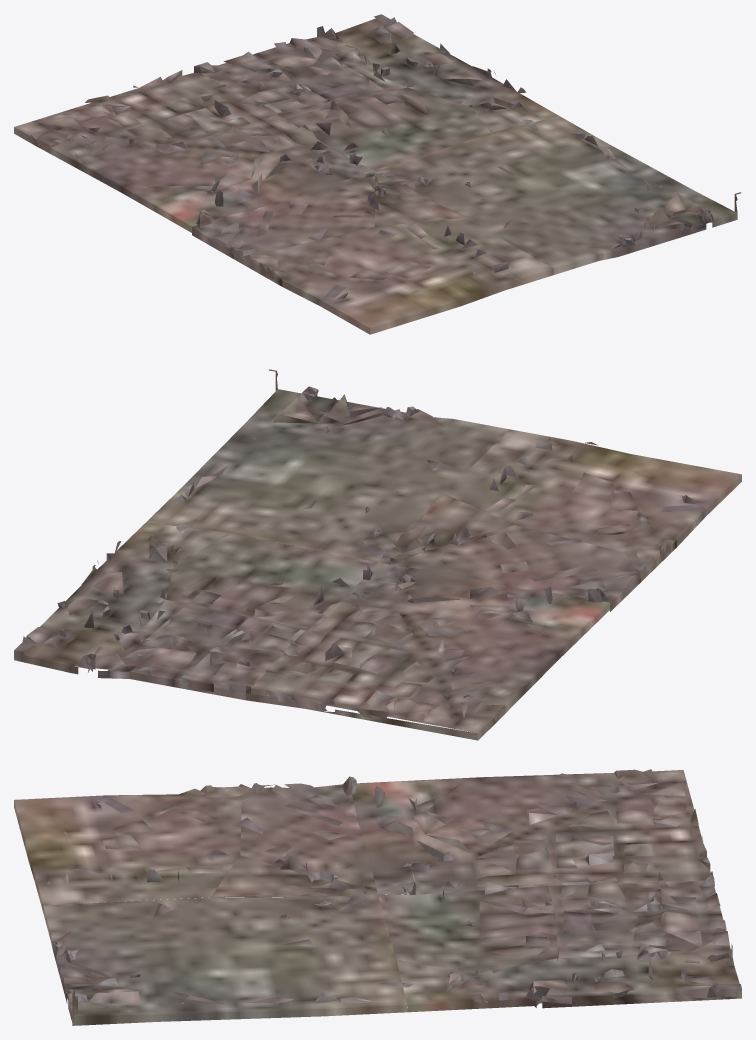
3 renders of one model, top to bottom at view 1: azimuth 30°, elevation 25°; view 2: azimuth 150°, elevation 25°; view 3: azimuth 270°, elevation 25°, orthographic. The views are drawn at different scales.
Visible parts, largest first — view 1: Mesh_0; view 2: Mesh_0; view 3: Mesh_0.
Part boxes in pixels (x1,y1,x2,y2): Mesh_0: [14, 14, 741, 334]; Mesh_0: [14, 369, 741, 740]; Mesh_0: [14, 769, 741, 1025].
Size of the model in its own units: 2158 by 178 by 2636.
1 material, 1 textured.
